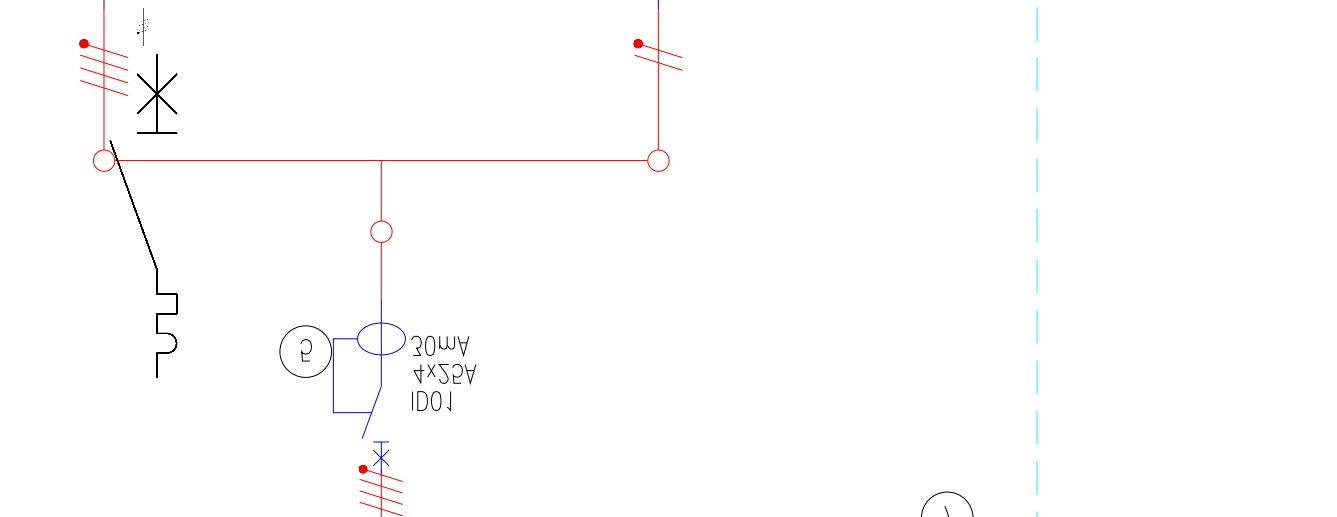interruptor_termomagnetico: (102, 46, 185, 386)
